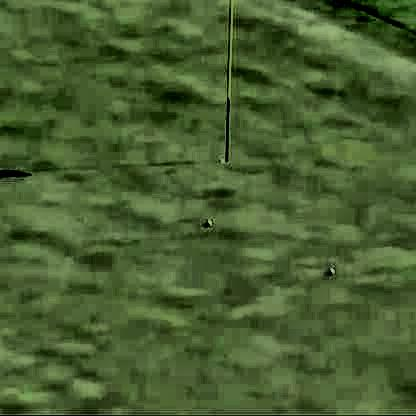golfball: (203, 216, 210, 226)
